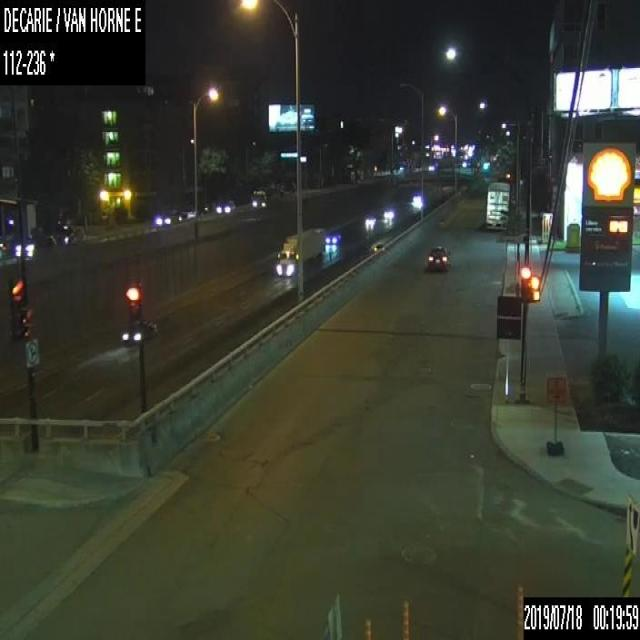construction: (544, 373, 566, 455), (397, 598, 408, 638), (515, 585, 523, 639), (362, 617, 371, 639)
vehicle: (276, 227, 324, 276), (484, 178, 510, 230), (117, 319, 157, 347), (14, 233, 53, 257), (249, 188, 277, 212), (426, 245, 446, 268), (154, 208, 180, 224), (214, 200, 235, 212), (324, 233, 341, 244), (180, 204, 192, 218), (364, 214, 376, 226), (412, 194, 421, 207), (383, 208, 393, 217)
